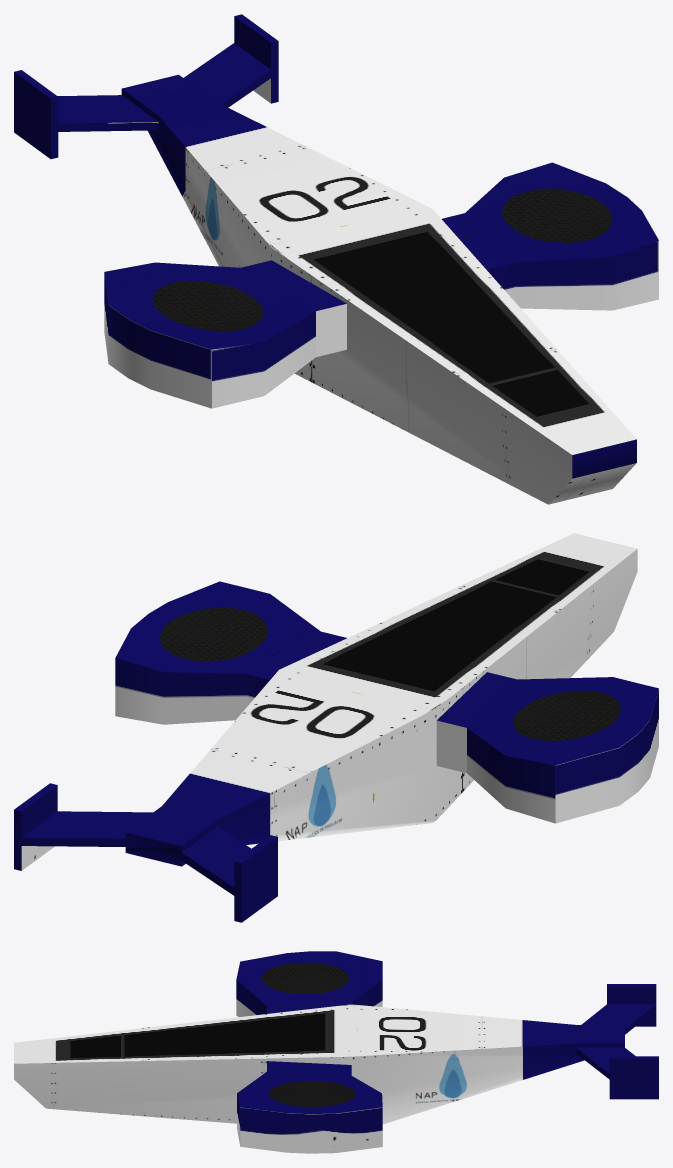
File: player02Ship01.fbx
3 renders of one model, top to bottom at view 1: azimuth 30°, elevation 25°; view 2: azimuth 150°, elevation 25°; view 3: azimuth 270°, elevation 25°, orthographic. The views are drawn at different scales.
Visible parts, largest first — view 1: pCube1; view 2: pCube1; view 3: pCube1.
Part boxes in pixels (bbox=[...]): pCube1: bbox=[14, 14, 658, 504]; pCube1: bbox=[14, 533, 658, 922]; pCube1: bbox=[14, 951, 658, 1153].
Size of the model in its own units: 13.77 by 3.43 by 23.06.
1 material, 1 textured.
